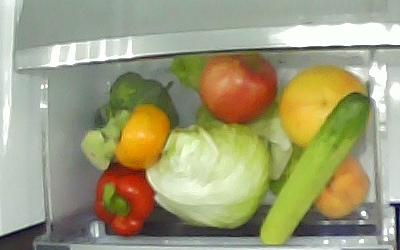apple: (201, 54, 276, 123)
broccoli: (82, 71, 179, 170)
cucumber: (261, 92, 368, 247)
grapefruit: (279, 67, 369, 147)
lettuce: (145, 123, 272, 228)
paprika: (95, 164, 154, 238)
peach: (310, 150, 368, 219)
persimmon: (112, 103, 171, 170)
